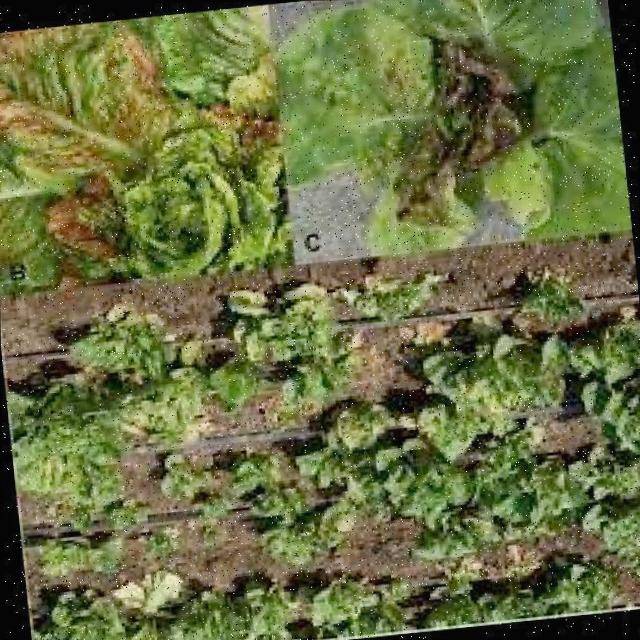Lettuce Mosaic Virus: (0, 14, 269, 249), (374, 0, 581, 237)
